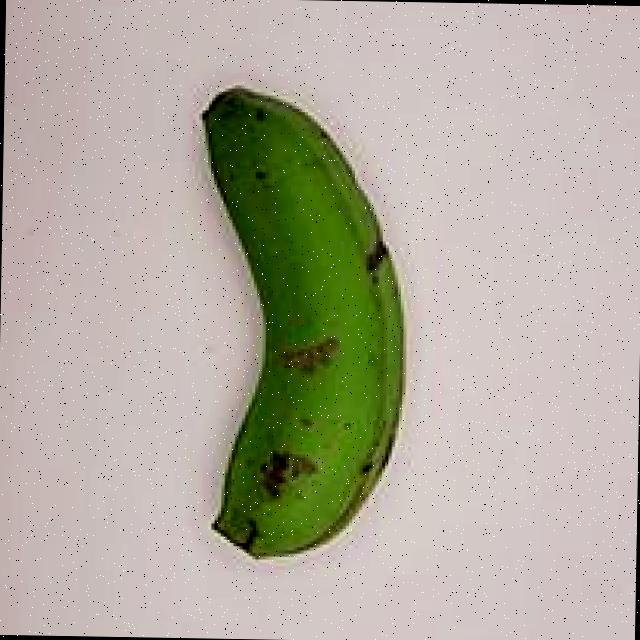Raw: (134, 49, 430, 598)
